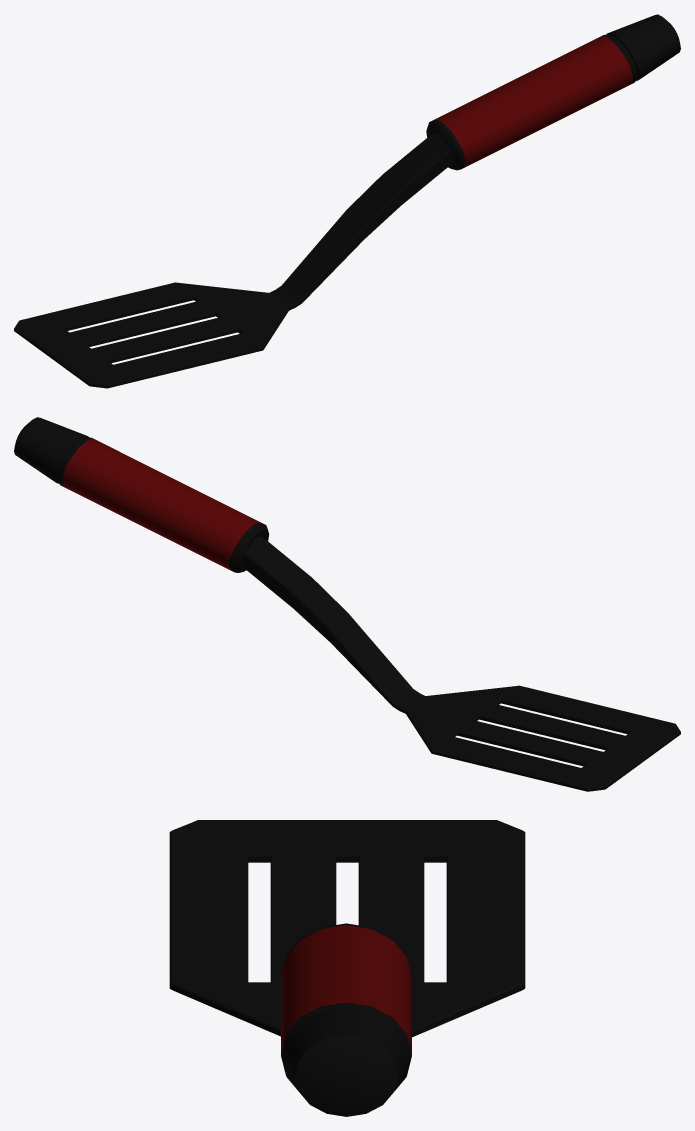
File: spatula.FBX
The picture shows the model from 3 angles, top to bottom: view 1: azimuth 30°, elevation 25°; view 2: azimuth 150°, elevation 25°; view 3: azimuth 270°, elevation 25°; orthographic projection. The views are drawn at different scales.
Parts seen in each view (by area): view 1: Cylindre001; view 2: Cylindre001; view 3: Cylindre001.
Boxes of the visible parts, bbox=[...] form: Cylindre001: bbox=[14, 14, 680, 388]; Cylindre001: bbox=[14, 417, 680, 791]; Cylindre001: bbox=[169, 820, 525, 1116].
Size of the model in its own units: 487 by 145 by 120.
